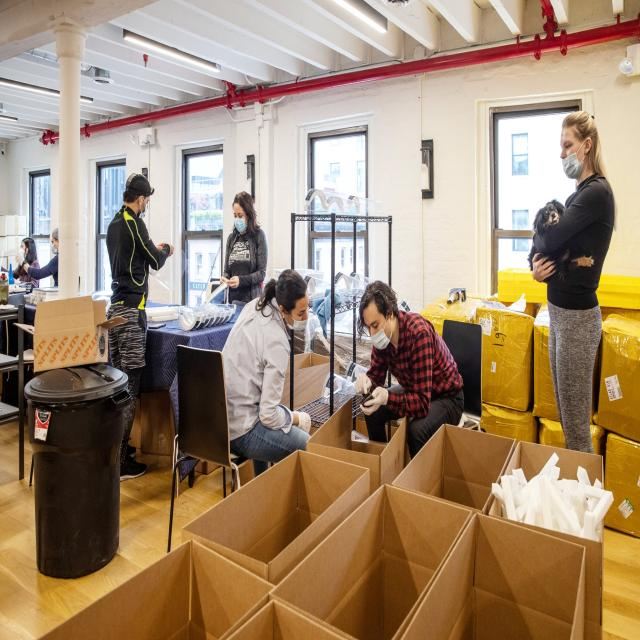mask: (560, 142, 586, 202), (221, 205, 247, 249), (284, 313, 309, 349), (364, 331, 394, 359)
